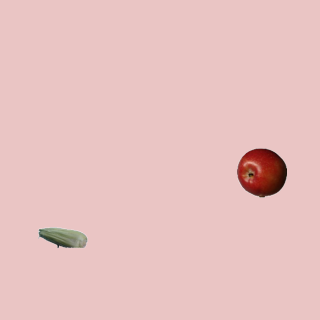Apple Braeburn: (236, 147, 286, 197)
Corn Husk: (37, 212, 87, 262)
